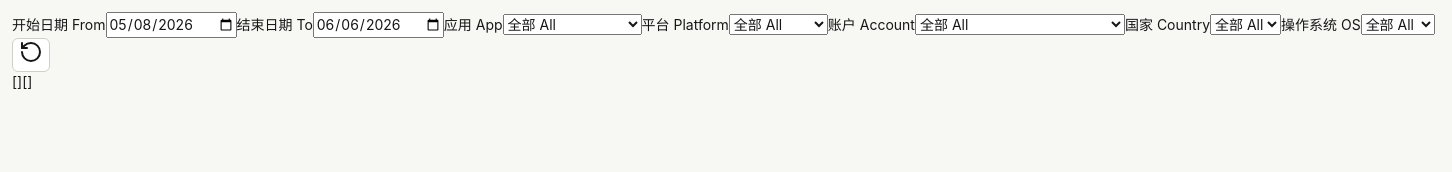
Test: GlobalFilters › resets controls to All and empties selected arrays
The image size is (1452, 172).
Select "Meta Ads" in the dropdown labelled "平台 Platform" at (778, 24), box [729,14,828,35]
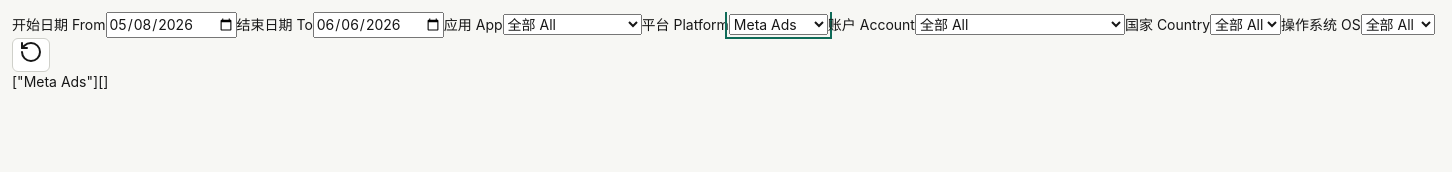
Select "Finance Tracker" in the dropdown labelled "应用 App" at (572, 24), box [502,14,642,35]
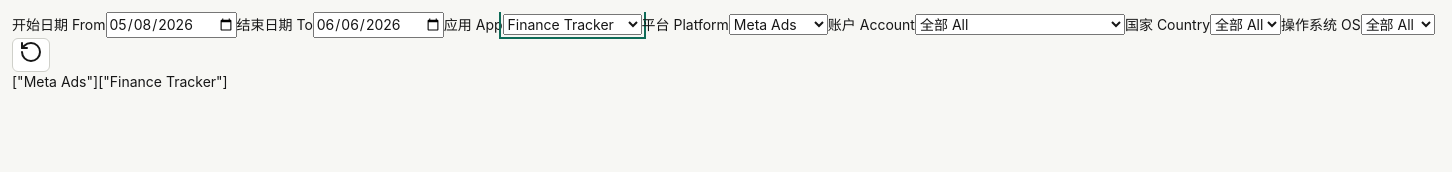
Click the button named "重置筛选 Reset filters" at (31, 55), box [12,38,50,72]
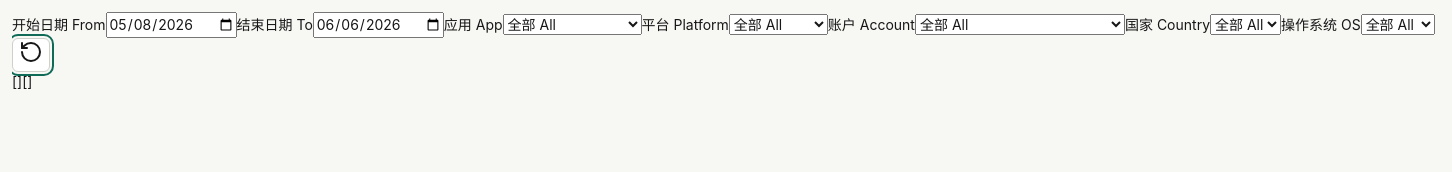
Expected: the text named "selected platforms" reads "[]", [12,73,22,90]
Expected: the text named "selected apps" reads "[]", [22,73,32,90]
